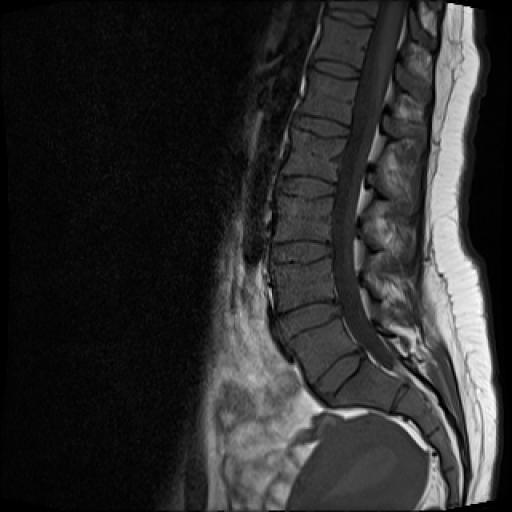L1: (297, 68, 357, 126)
L2: (281, 124, 345, 182)
L3: (274, 194, 333, 244)
L4: (271, 256, 335, 311)
L5: (290, 319, 359, 383)
S1: (330, 358, 402, 412)
